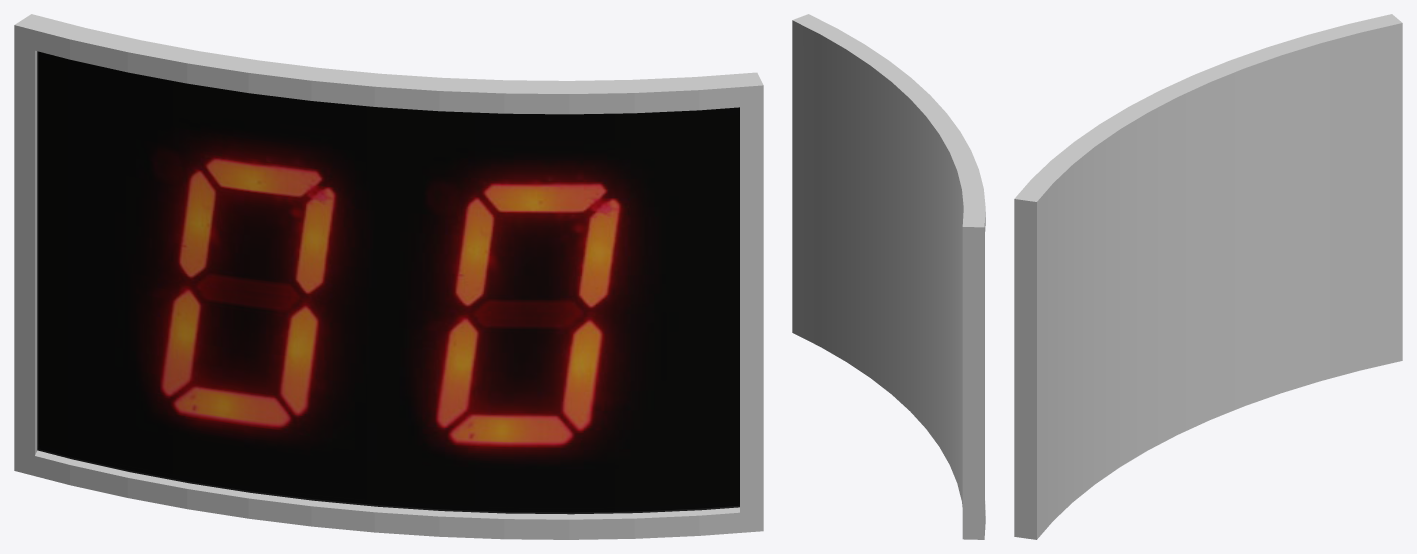
Rendered from LCd.FBX.
The picture shows the model from 3 angles, left to right: view 1: azimuth 30°, elevation 25°; view 2: azimuth 150°, elevation 25°; view 3: azimuth 270°, elevation 25°; orthographic projection. The views are drawn at different scales.
Parts seen in each view (by area): view 1: Object002, Box001; view 2: Box001; view 3: Box001.
Part boxes in pixels (x1,y1,x2,y2): Object002: [37, 51, 739, 514]; Box001: [14, 14, 763, 539]; Box001: [792, 14, 985, 539]; Box001: [1014, 14, 1402, 539].
Bounding box in the file's own units: 1337 × 1120 × 1166.
2 materials, 1 textured.
